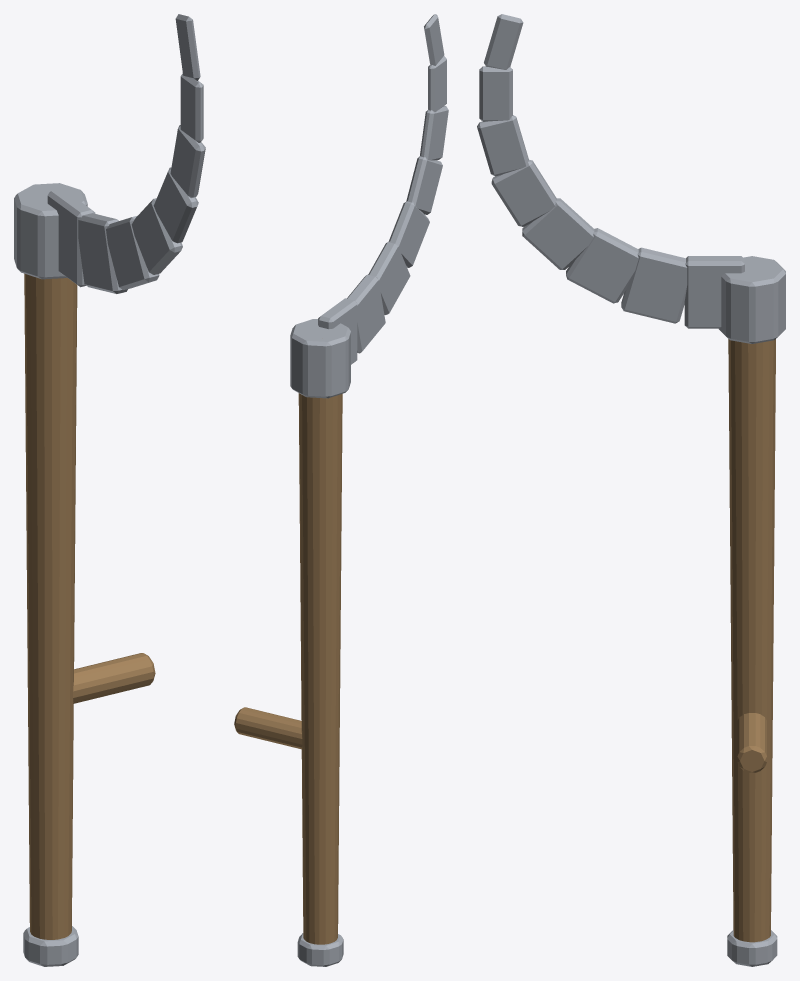
File: scythe.glb
3 views of the same model, side by side, from view 1: azimuth 30°, elevation 25°; view 2: azimuth 150°, elevation 25°; view 3: azimuth 270°, elevation 25° (orthographic). The views are drawn at different scales.
Parts seen in each view (by area): view 1: Scythe; view 2: Scythe; view 3: Scythe.
Boxes of the visible parts, box(x1,y1,x2,y2) form: Scythe: box(14, 14, 205, 966); Scythe: box(234, 14, 448, 966); Scythe: box(477, 14, 785, 966).
Size of the model in its own units: 0.3187 by 2.44 by 0.7235.
